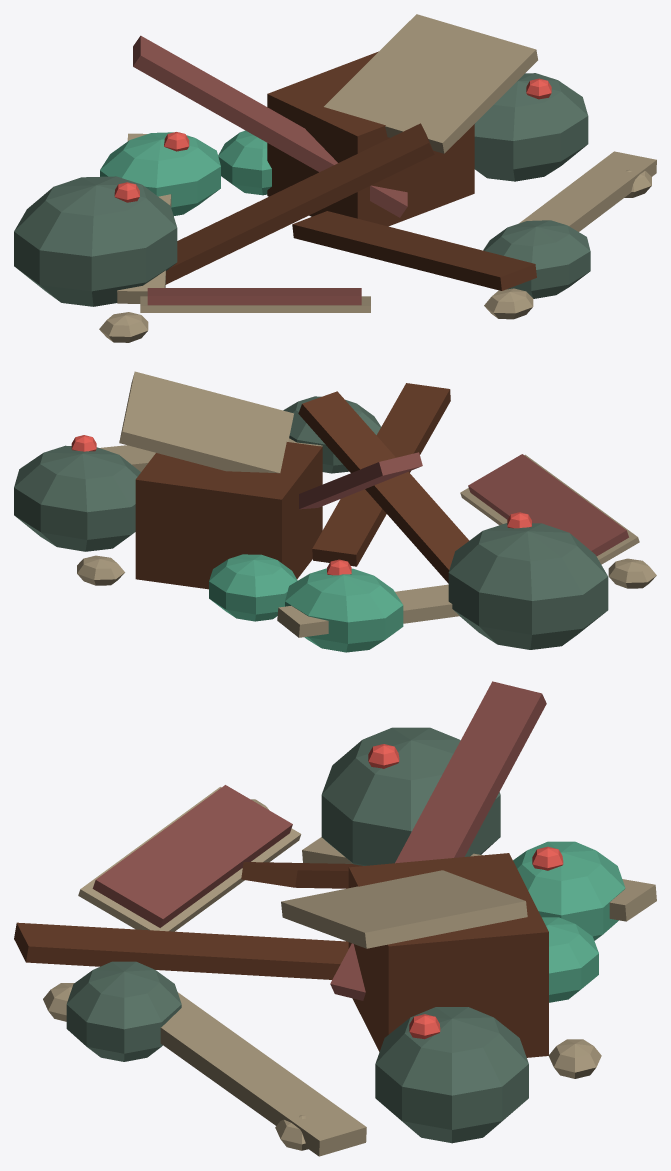
File: ParkParkEntranceDebris.obj
3 views of the same model, one above another, from view 1: azimuth 30°, elevation 25°; view 2: azimuth 150°, elevation 25°; view 3: azimuth 270°, elevation 25° (orthographic). The views are drawn at different scales.
Parts seen in each view (by area): view 1: ParkParkEntranceDebris; view 2: ParkParkEntranceDebris; view 3: ParkParkEntranceDebris.
Part boxes in pixels (x1,y1,x2,y2): ParkParkEntranceDebris: [14, 14, 656, 342]; ParkParkEntranceDebris: [14, 371, 656, 652]; ParkParkEntranceDebris: [14, 681, 656, 1156].
Bounding box in the file's own units: 6.08 × 1.95 × 4.7.
